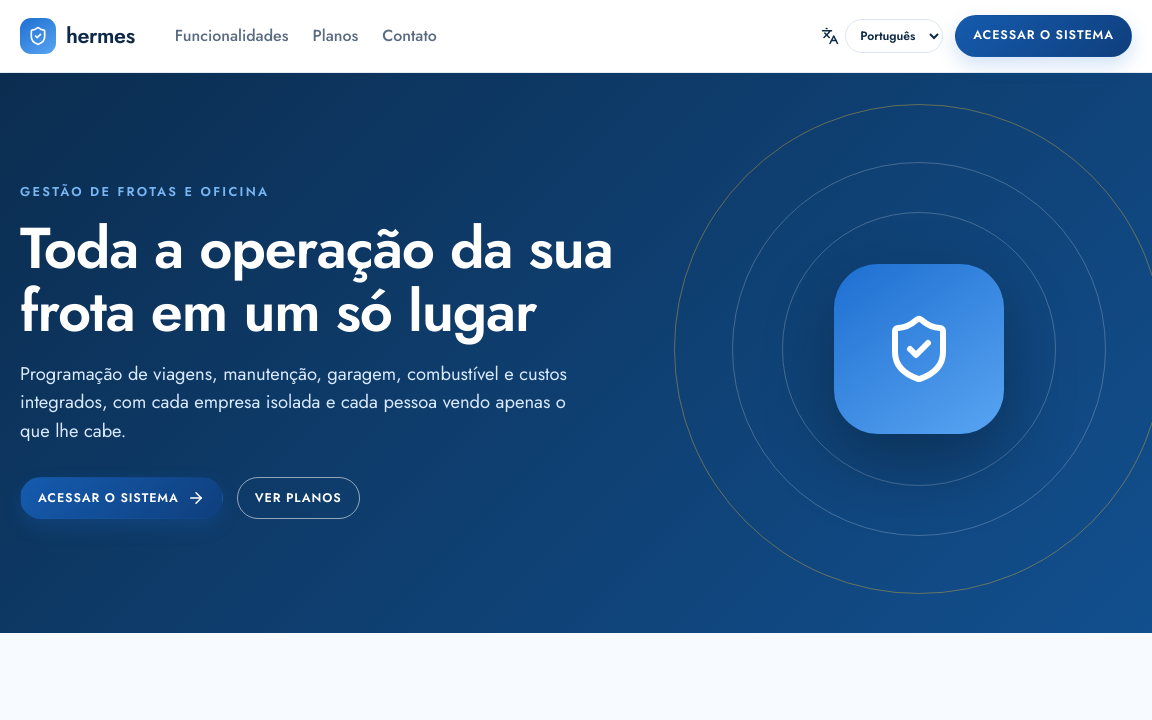
Test: landing page › translates when the language changes
The image size is (1152, 720).
Select "English" in the dropdown named "Idioma" at coordinates (894, 36), box [845,19,943,53]
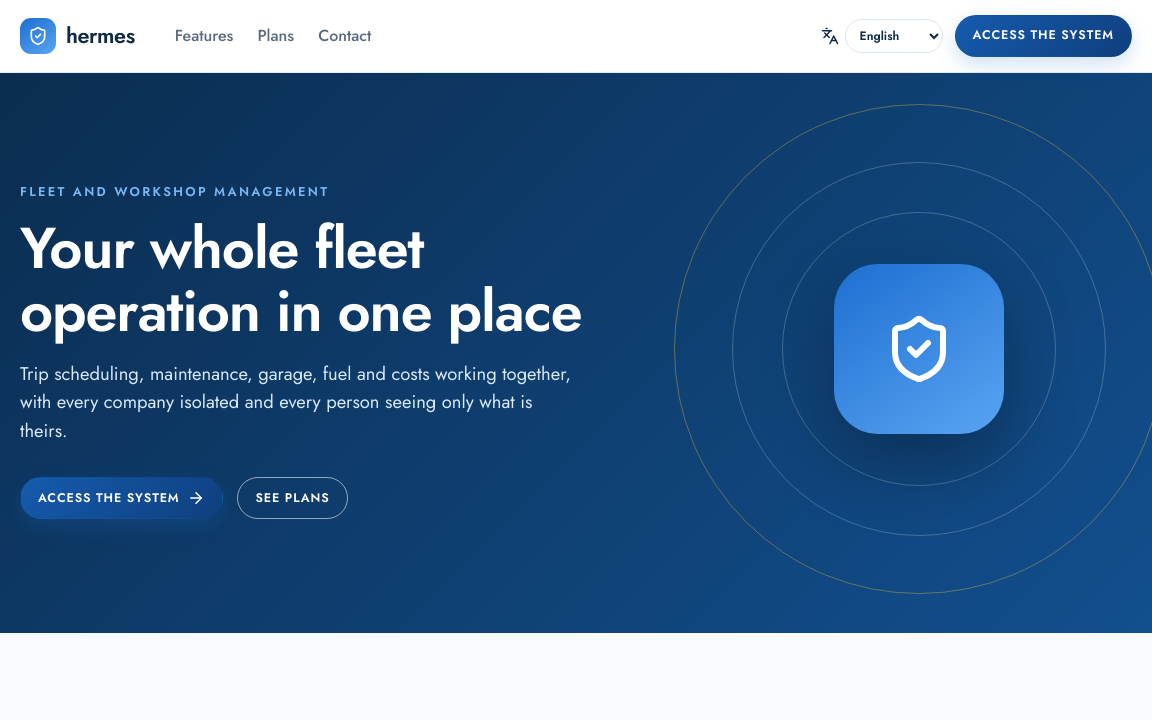
Check: the heading "Your whole fleet operation in one place" is shown, box [20,217,658,342]
